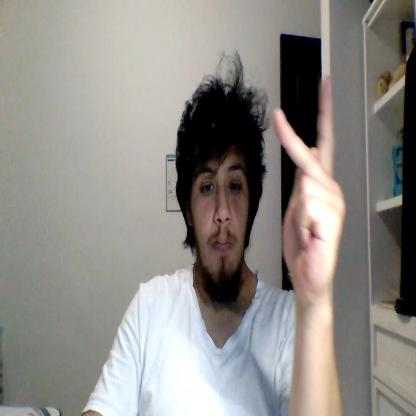P: (272, 73, 345, 290)
